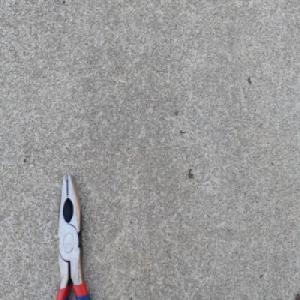Pliers: (54, 171, 90, 300)
